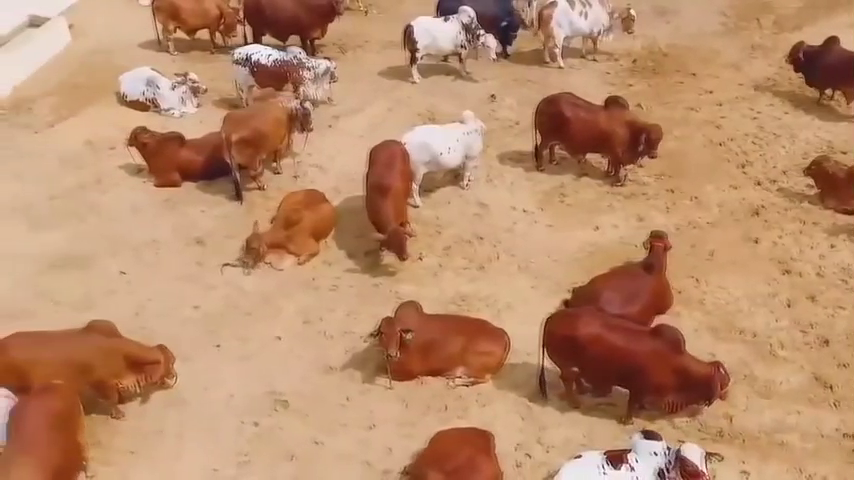bo: (513, 307, 747, 421), (10, 315, 184, 425), (362, 293, 517, 396), (516, 72, 657, 183), (529, 418, 736, 480), (1, 368, 106, 480), (551, 226, 687, 310), (217, 84, 323, 189), (393, 101, 492, 204), (356, 133, 431, 263), (232, 182, 338, 272), (397, 5, 506, 90), (120, 118, 232, 198), (532, 1, 645, 68), (386, 414, 519, 469), (228, 39, 338, 105), (779, 28, 854, 112), (239, 1, 362, 50), (113, 62, 215, 119), (433, 2, 531, 58), (145, 3, 235, 61), (792, 147, 854, 210)
